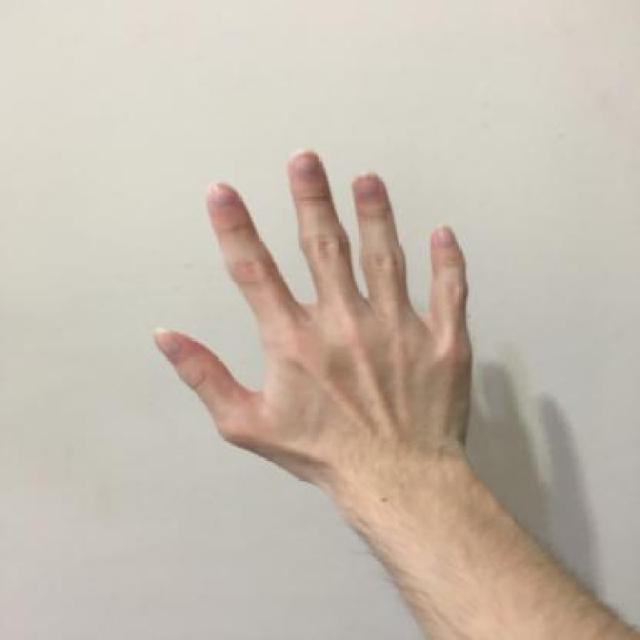bare_hand: (143, 134, 485, 512)
